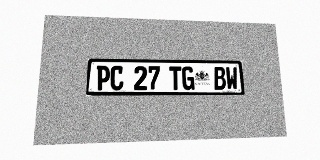2: (134, 66, 147, 90)
7: (147, 66, 160, 90)
B: (213, 67, 226, 90)
C: (110, 66, 124, 90)
G: (182, 66, 195, 90)
P: (96, 65, 110, 90)
T: (169, 66, 182, 90)
W: (225, 67, 238, 90)
